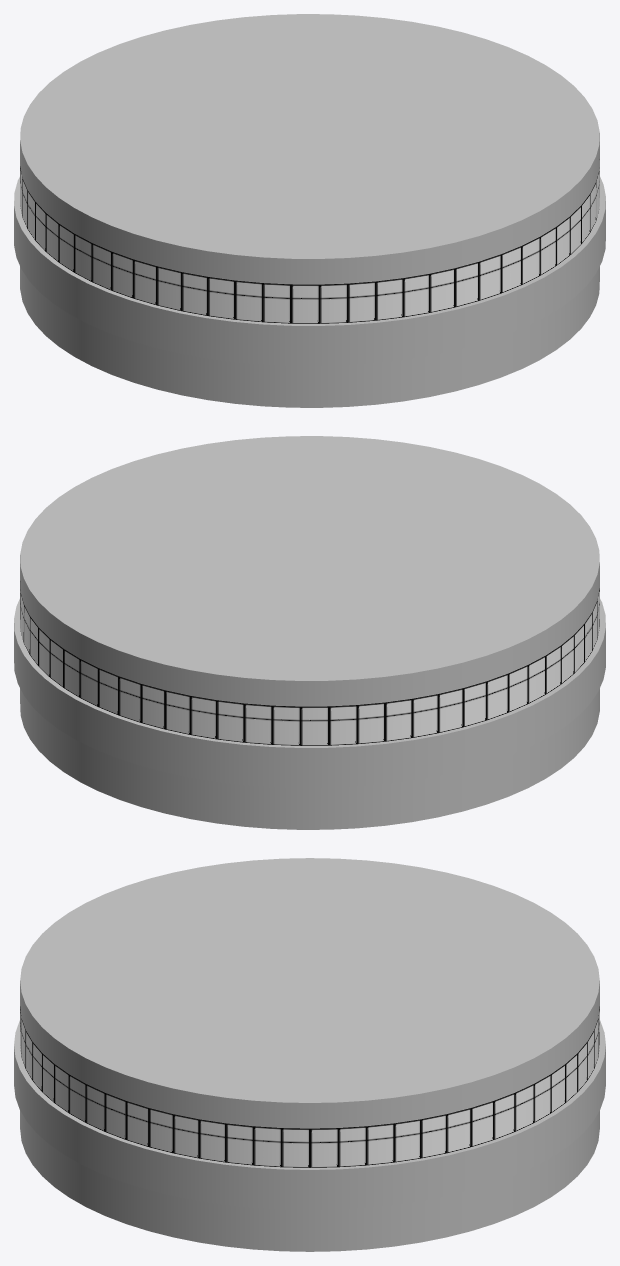
The model's file is Science.fbx.
The picture shows the model from 3 angles, top to bottom: view 1: azimuth 30°, elevation 25°; view 2: azimuth 150°, elevation 25°; view 3: azimuth 270°, elevation 25°; orthographic projection.
Visible parts, largest first — view 1: Cylinder; view 2: Cylinder; view 3: Cylinder.
Part boxes in pixels (bbox=[...]): Cylinder: bbox=[14, 14, 605, 407]; Cylinder: bbox=[14, 436, 605, 829]; Cylinder: bbox=[14, 858, 605, 1251].
Size of the model in its own units: 3064 by 850 by 3064.
